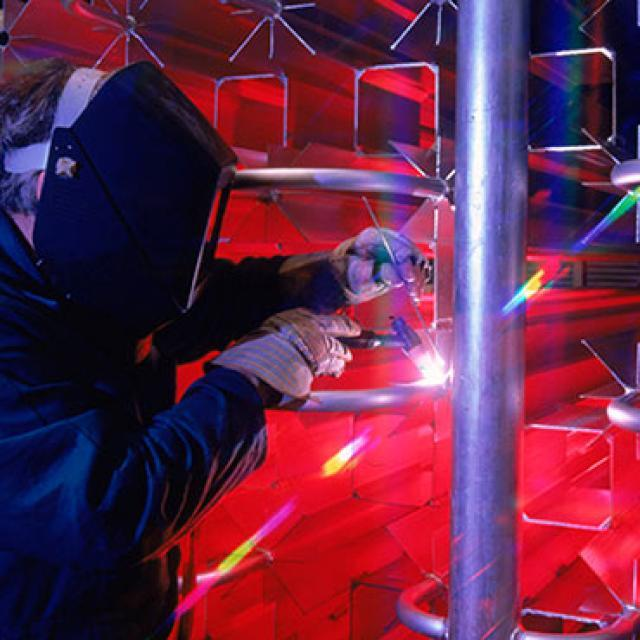with_helmet: (23, 41, 264, 362)
